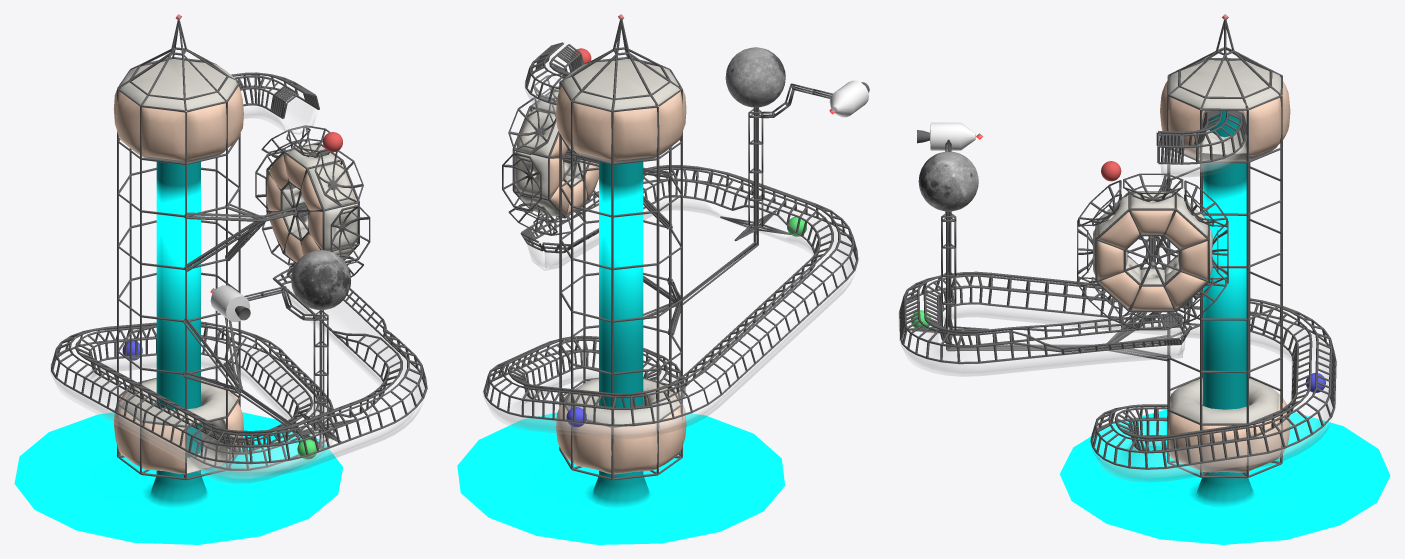
The model's file is MarblesForever.glb.
3 views of the same model, side by side, from view 1: azimuth 30°, elevation 25°; view 2: azimuth 150°, elevation 25°; view 3: azimuth 270°, elevation 25° (orthographic).
Visible parts, largest first — view 1: elevator-effect, track-glass-lower, elevator-padding, track-struts-lower, elevator-frame, wheel, orbiter-gear, orbiter-moon, track-struts-upper, track-glass-upper; view 2: elevator-effect, track-glass-lower, elevator-padding, track-struts-lower, elevator-frame, wheel, orbiter-gear, orbiter-moon, track-struts-upper, track-glass-upper; view 3: elevator-effect, track-glass-lower, track-struts-lower, wheel, elevator-padding, elevator-frame, orbiter-moon, track-struts-upper, orbiter-gear, track-glass-upper.
Part boxes in pixels (left/top/right/bottom): elevator-effect: left=14, top=162, right=343, bottom=544; track-glass-lower: left=50, top=283, right=427, bottom=483; elevator-padding: left=113, top=59, right=243, bottom=474; track-struts-lower: left=51, top=267, right=427, bottom=470; elevator-frame: left=117, top=20, right=324, bottom=480; wheel: left=255, top=125, right=370, bottom=278; orbiter-gear: left=210, top=285, right=355, bottom=441; orbiter-moon: left=291, top=250, right=350, bottom=309; track-struts-upper: left=231, top=72, right=319, bottom=118; track-glass-upper: left=241, top=88, right=318, bottom=134; elevator-effect: left=457, top=162, right=784, bottom=544; track-glass-lower: left=483, top=181, right=858, bottom=438; elevator-padding: left=556, top=59, right=686, bottom=474; track-struts-lower: left=483, top=165, right=858, bottom=426; elevator-frame: left=559, top=20, right=758, bottom=480; wheel: left=502, top=72, right=598, bottom=235; orbiter-gear: left=720, top=80, right=869, bottom=241; orbiter-moon: left=725, top=47, right=785, bottom=107; track-struts-upper: left=525, top=42, right=583, bottom=105; track-glass-upper: left=524, top=63, right=558, bottom=117; elevator-effect: left=1060, top=110, right=1390, bottom=544; track-glass-lower: left=898, top=288, right=1336, bottom=481; track-struts-lower: left=899, top=271, right=1336, bottom=469; wheel: left=1077, top=173, right=1228, bottom=330; elevator-padding: left=1160, top=60, right=1290, bottom=472; elevator-frame: left=946, top=20, right=1282, bottom=478; orbiter-moon: left=918, top=151, right=978, bottom=211; track-struts-upper: left=1156, top=110, right=1246, bottom=164; orbiter-gear: left=908, top=122, right=988, bottom=347; track-glass-upper: left=1161, top=131, right=1246, bottom=177.
Bounding box in the file's own units: 0.6529 × 1.05 × 0.9715.
Materials: 11 (2 with a texture image).
